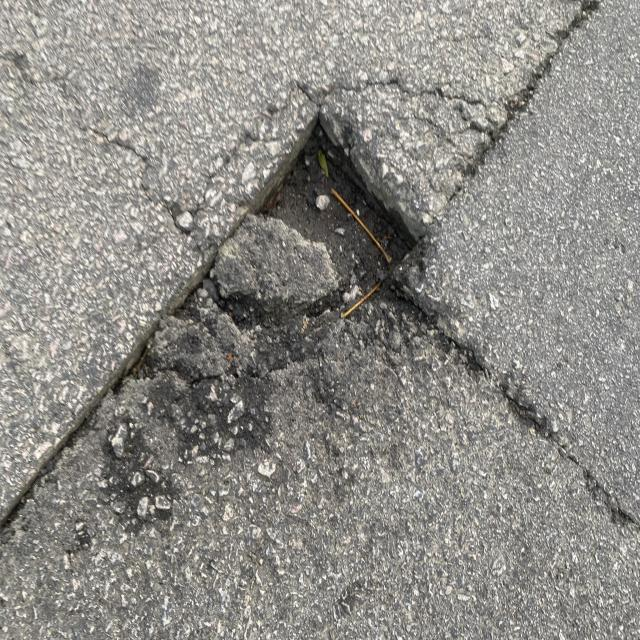pothole: (99, 107, 508, 364)
